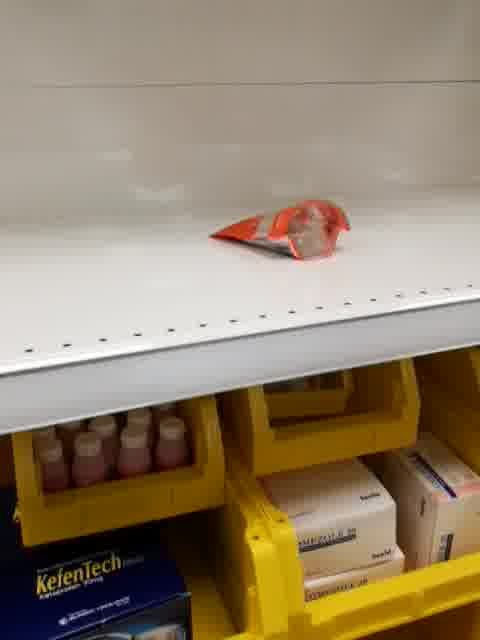whitechia: (207, 195, 354, 262)
